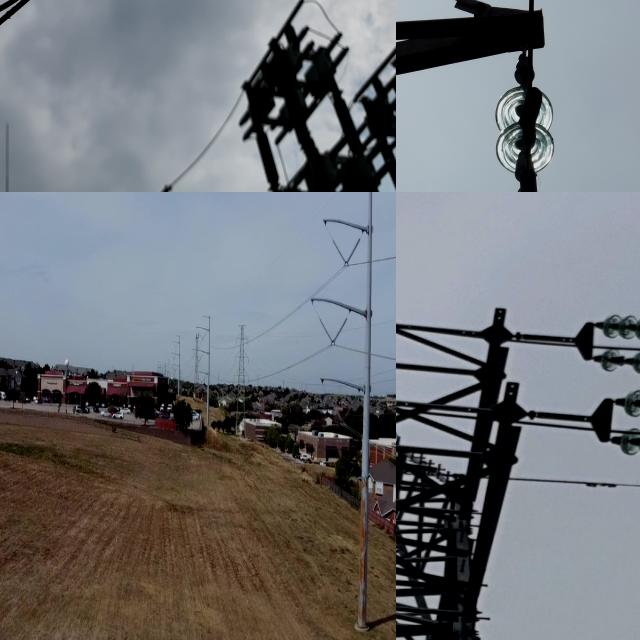杆塔: (396, 302, 638, 640), (232, 321, 251, 439), (190, 332, 203, 394)
正常绝缘子: (496, 80, 555, 192), (307, 307, 339, 351), (337, 228, 365, 277), (334, 388, 361, 437), (324, 307, 352, 354), (602, 313, 640, 346), (601, 348, 640, 380), (326, 390, 347, 431), (329, 234, 350, 270)
绝缘子破损: (514, 161, 536, 192), (616, 354, 630, 366)
